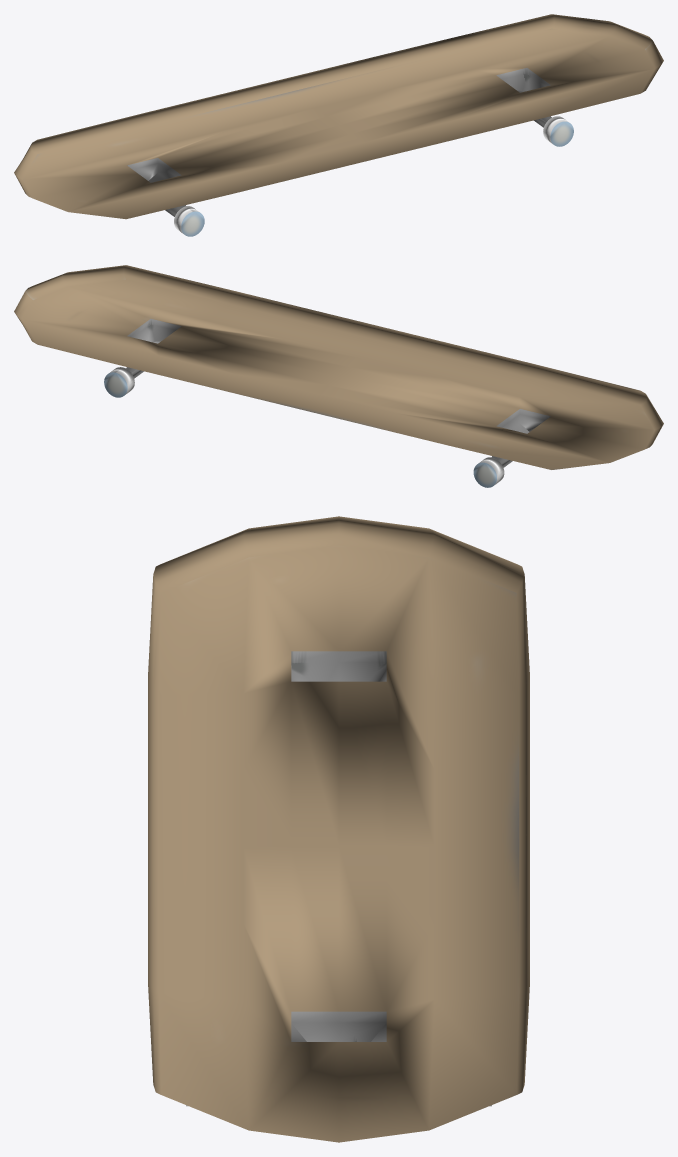
The model's file is skateboard.glb.
3 renders of one model, top to bottom at view 1: azimuth 30°, elevation 25°; view 2: azimuth 150°, elevation 25°; view 3: azimuth 270°, elevation 25°, orthographic. The views are drawn at different scales.
Visible parts, largest first — view 1: Skateboard; view 2: Skateboard; view 3: Skateboard.
Part boxes in pixels (bbox=[...]): Skateboard: bbox=[14, 14, 663, 236]; Skateboard: bbox=[14, 265, 663, 487]; Skateboard: bbox=[148, 516, 529, 1142].
Size of the model in its own units: 0.8 by 0.066 by 0.2109.
1 material, 1 textured.
